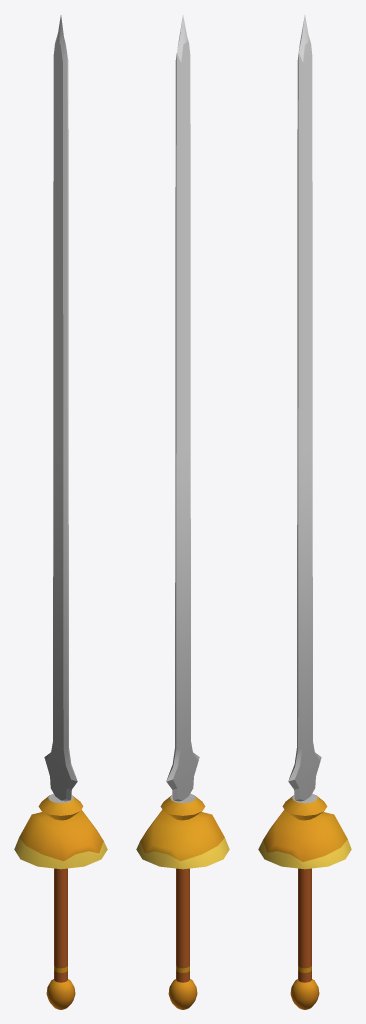
The model's file is Weapon_lightsaber.fbx.
The picture shows the model from 3 angles, left to right: view 1: azimuth 30°, elevation 25°; view 2: azimuth 150°, elevation 25°; view 3: azimuth 330°, elevation 25°; orthographic projection.
Parts seen in each view (by area): view 1: W_R_1; view 2: W_R_1; view 3: W_R_1.
Part boxes in pixels (box(x1,y1,x2,y2)): W_R_1: box(14, 15, 107, 1009); W_R_1: box(136, 15, 229, 1009); W_R_1: box(258, 15, 351, 1009).
Bounding box in the file's own units: 8.98 × 105 × 8.98.
